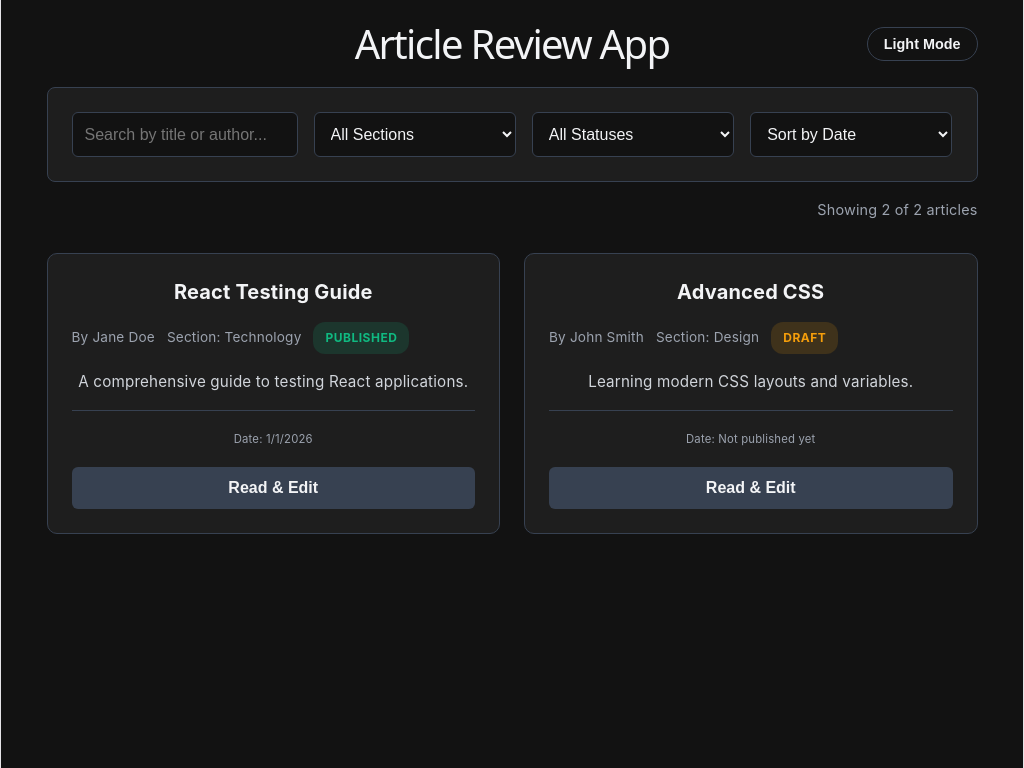
Scenario: Article Review App Requirements › 2. displays an empty state message when no articles match the filters
This screenshot has width=1024, height=768.
expect the heading "React Testing Guide" is shown: met, box [174, 280, 373, 304]
Note: Search for something that doesn't exist
In the field with placeholder "Search by title or author...": (184, 135) [72, 112, 298, 157], type "NonExistentGibberishValue"
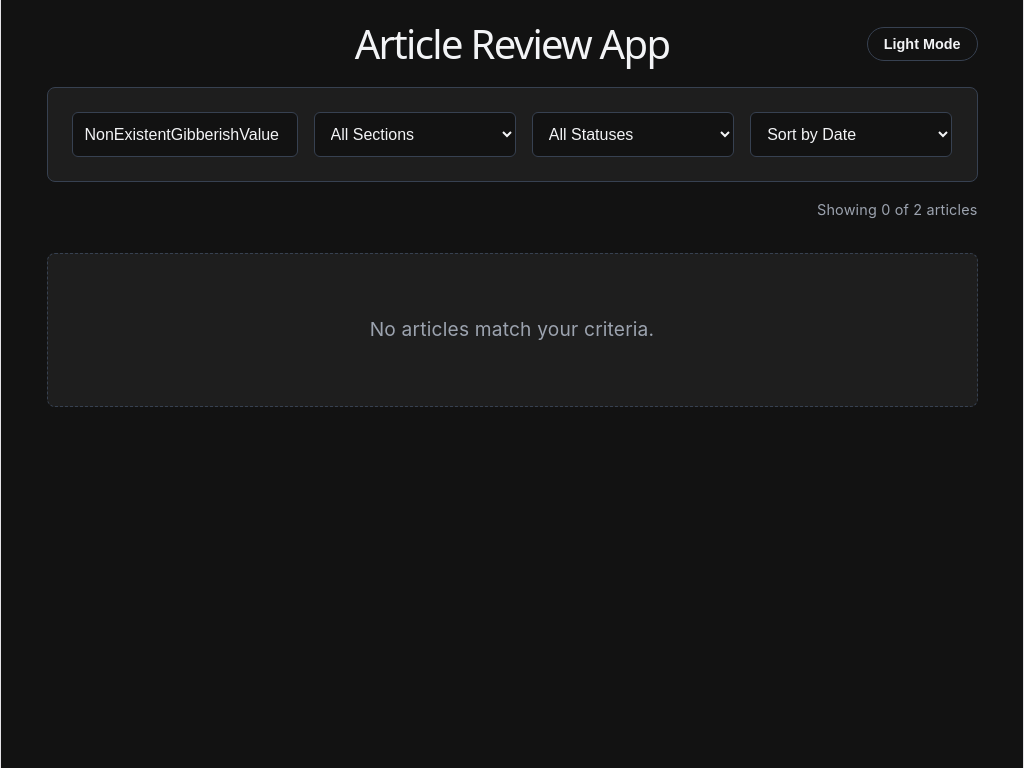
expect the text "No articles match your criteria." is shown: met, box [46, 253, 978, 407]
